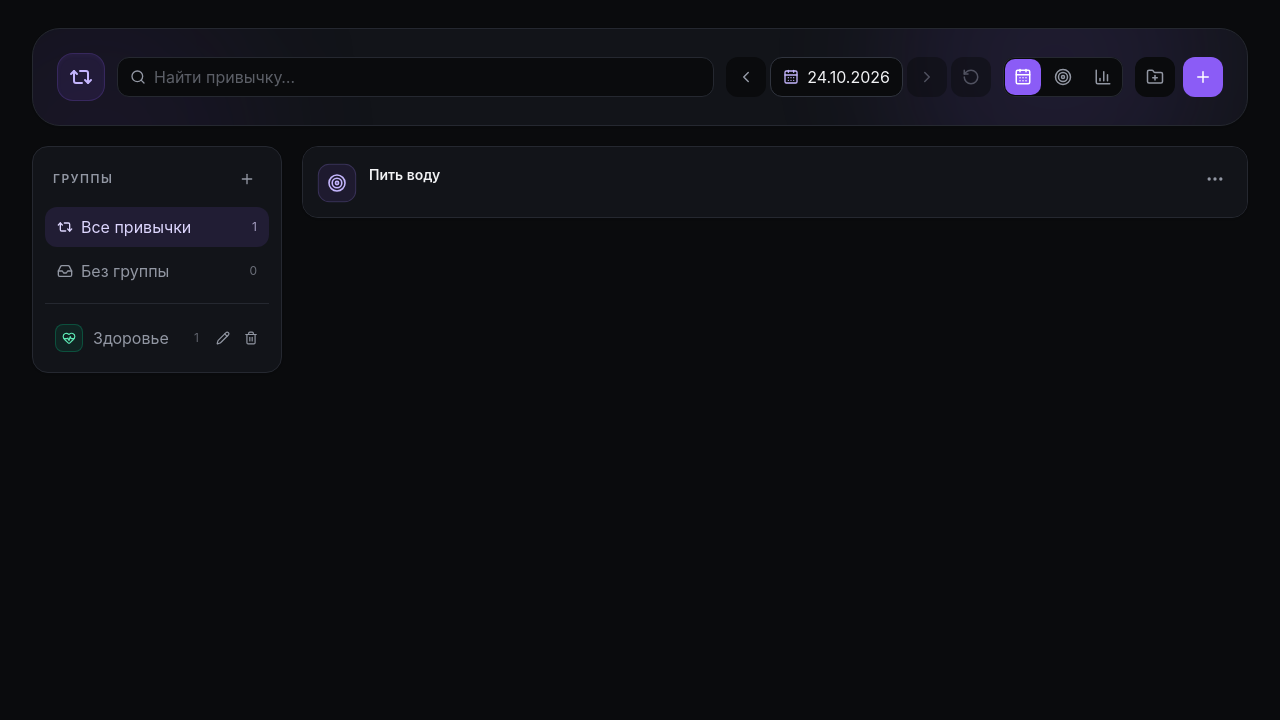
Test case: HabitsPage › deletes a habit from the details popover after confirmation
What coordinates should you click on to do the following:
click the button named "Подробнее о привычке «Пить воду»"
I would click on:
 (1215, 179)
Its box is [1197,161,1233,197].
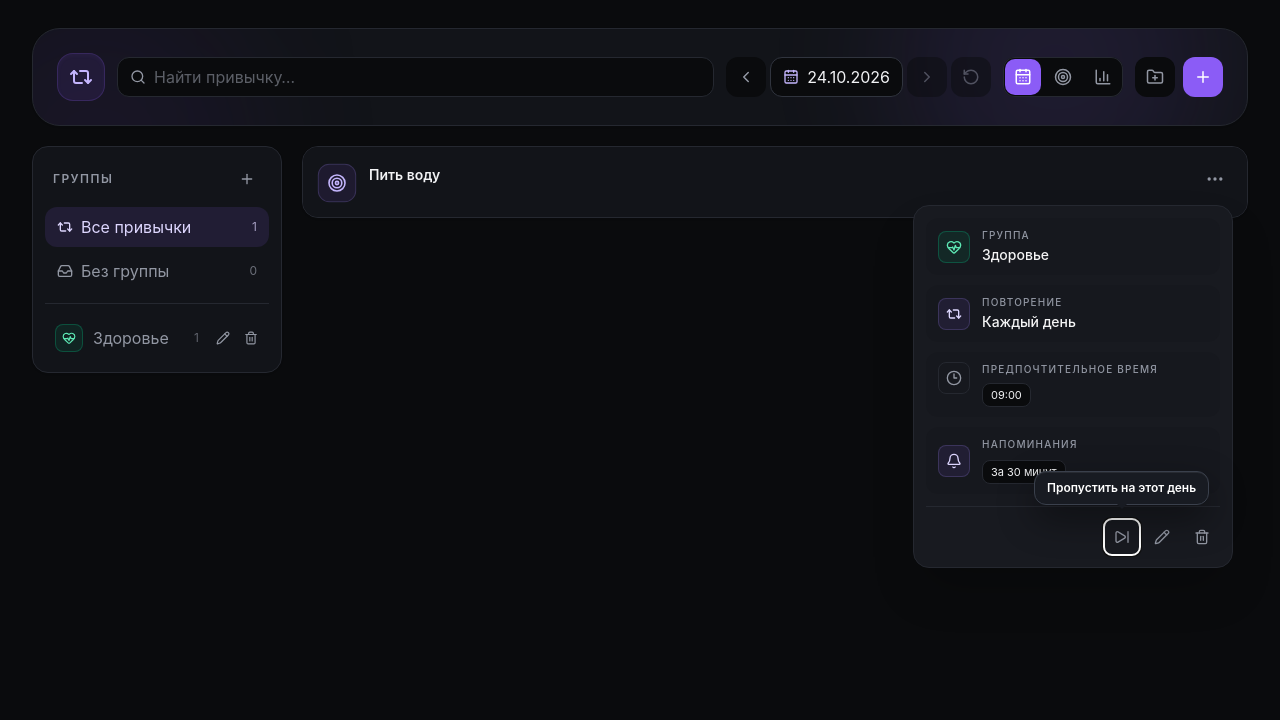
What coordinates should you click on to do the following:
click the button named "Удалить привычку «Пить воду»"
I would click on:
 (1202, 537)
Its box is [1184,519,1220,555].
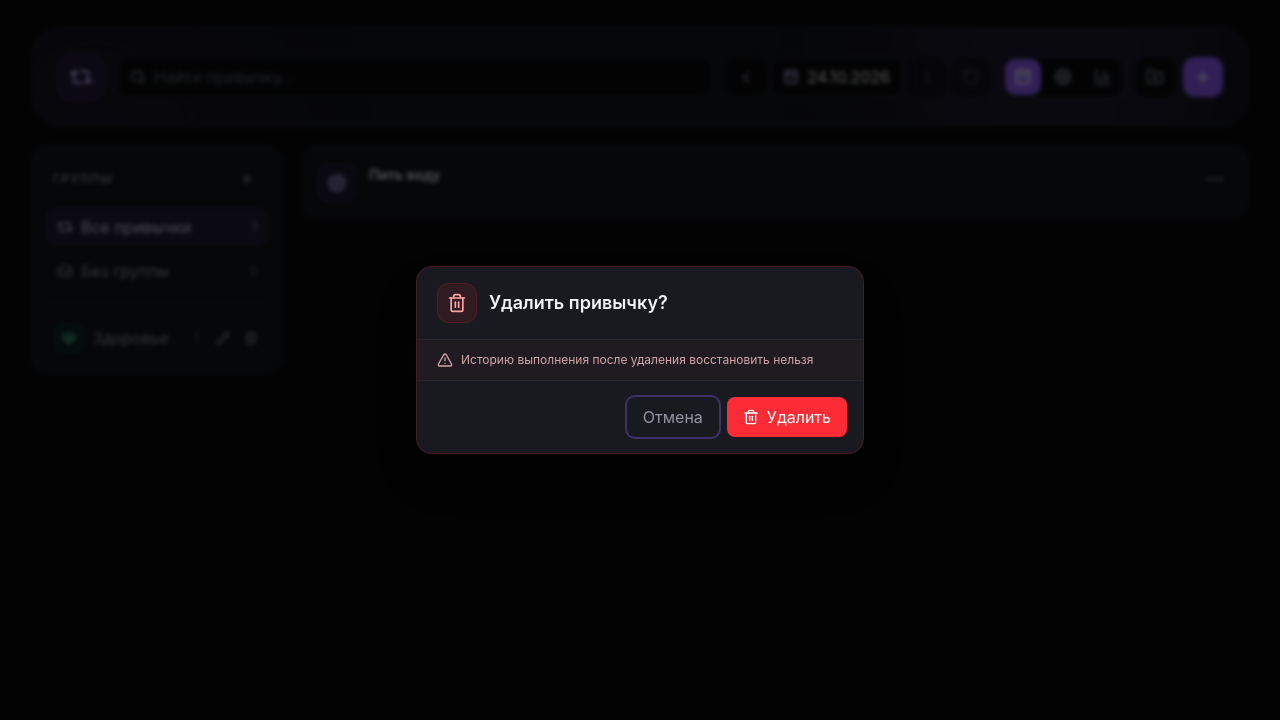
Check: the heading "Удалить привычку?" is shown, box [489,292,668,313]
What coordinates should you click on to do the following:
click the button "Удалить"
I would click on:
 (787, 417)
Its box is [727,397,847,437].
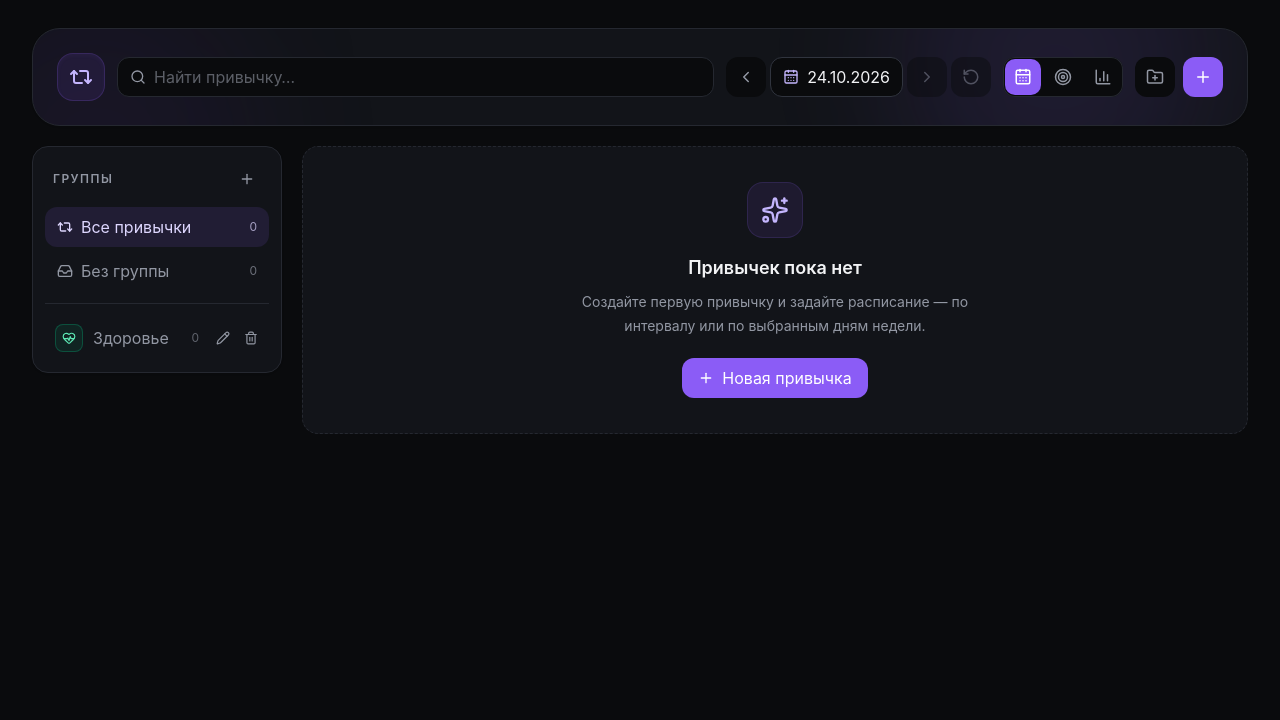
Check: the button "Пить воду" is gone
